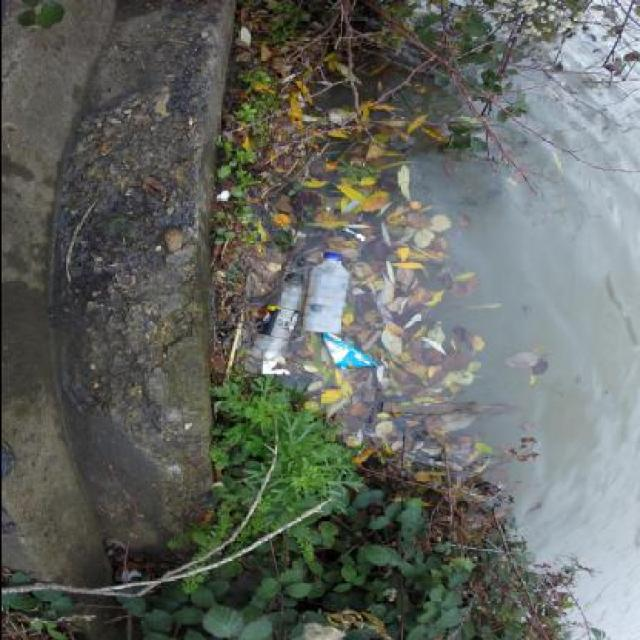plastic: (248, 272, 304, 362), (300, 253, 348, 335)
